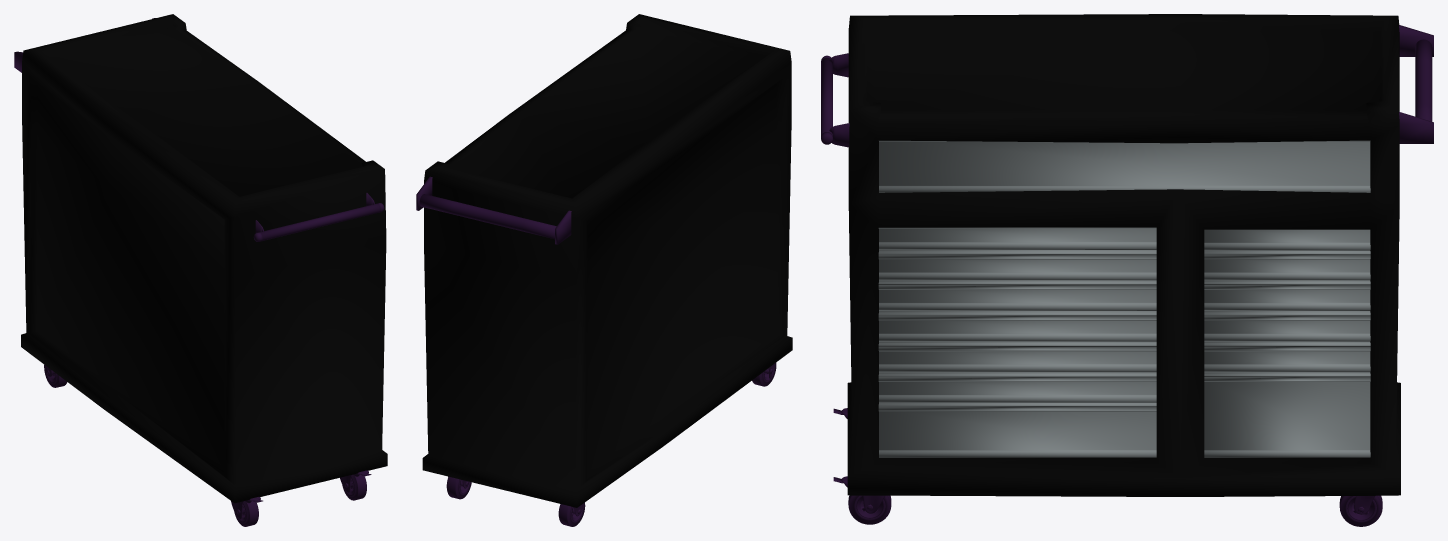
File: toolchest.fbx
The picture shows the model from 3 angles, left to right: view 1: azimuth 30°, elevation 25°; view 2: azimuth 150°, elevation 25°; view 3: azimuth 270°, elevation 25°; orthographic projection. The views are drawn at different scales.
Visible parts, largest first — view 1: Frame, Handle_2, Wheels, Wheel_frames; view 2: Frame, Handle, Wheels; view 3: Frame, Shelfs, Handle, Wheels, Handle_2, Wheel_frames.
Part boxes in pixels (box(x1,y1,x2,y2)): Frame: box(21, 14, 387, 503); Handle_2: box(253, 193, 384, 241); Wheels: box(44, 364, 366, 526); Wheel_frames: box(45, 365, 371, 519); Frame: box(422, 14, 792, 507); Handle: box(416, 176, 571, 244); Wheels: box(446, 362, 776, 526); Frame: box(847, 14, 1400, 496); Shelfs: box(878, 140, 1370, 457); Handle: box(1399, 25, 1433, 143); Wheels: box(848, 495, 1382, 526); Handle_2: box(821, 53, 849, 147); Wheel_frames: box(833, 408, 1374, 514).
Size of the model in its own units: 1.85 by 3.78 by 4.88.
